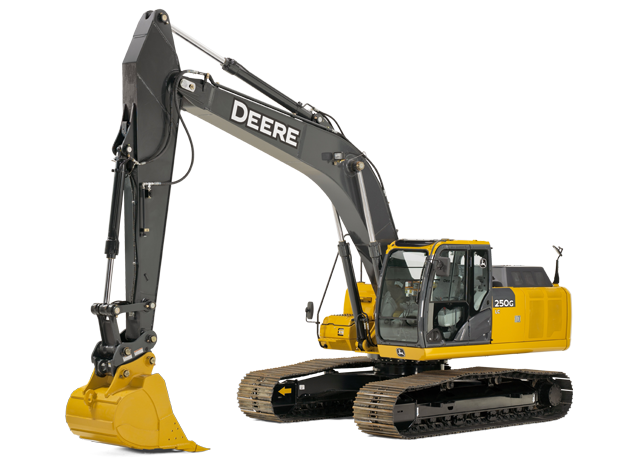backhoe: (63, 9, 581, 456)
